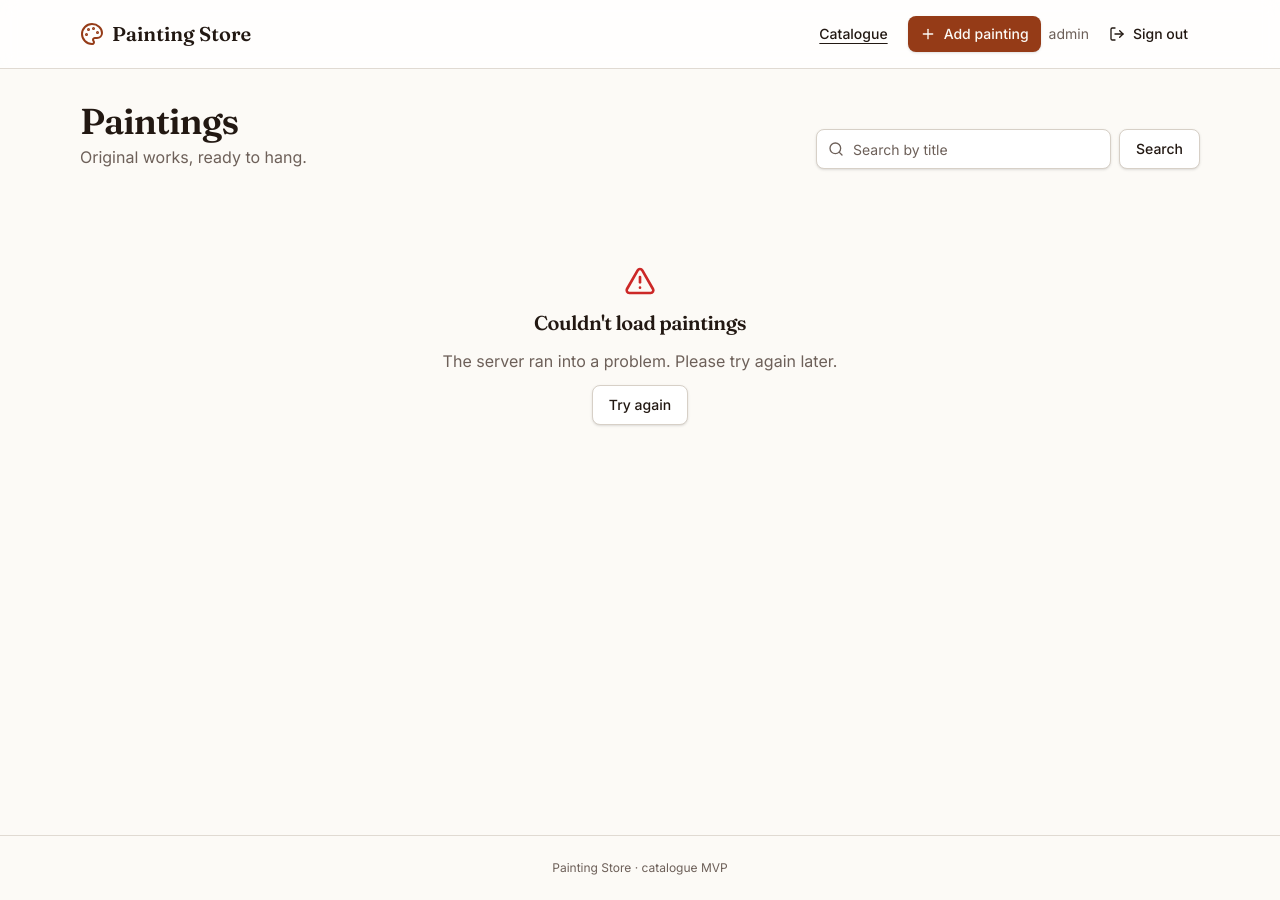
Test: PaintingListPage › shows an error with retry
The image size is (1280, 900).
Check: the message shows "Couldn't load paintings", box [534,310,746,335]
Click the button "Try again" at (640, 405), box [592,385,688,425]
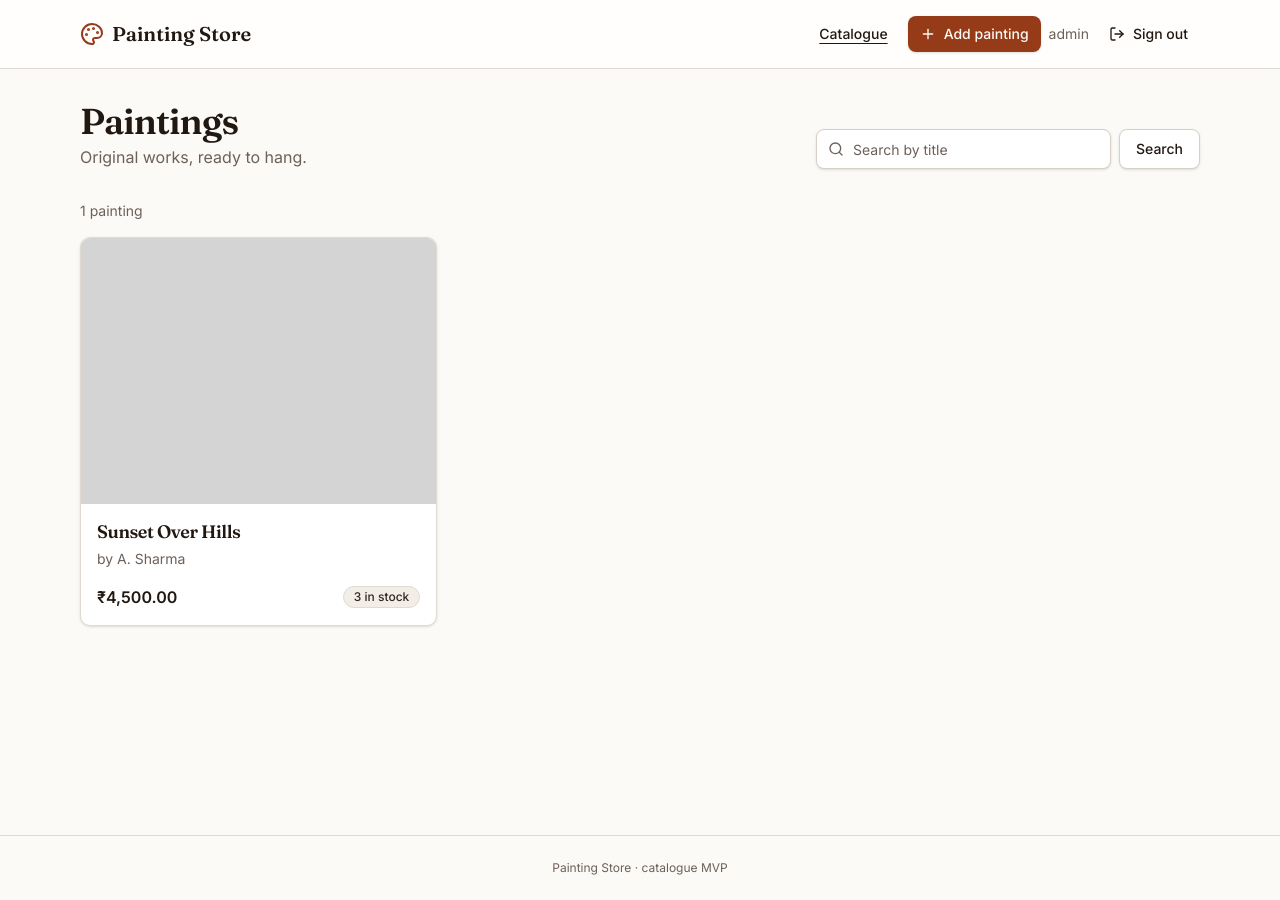
Check: the link "Sunset Over Hills" is shown, box [97,520,240,544]
